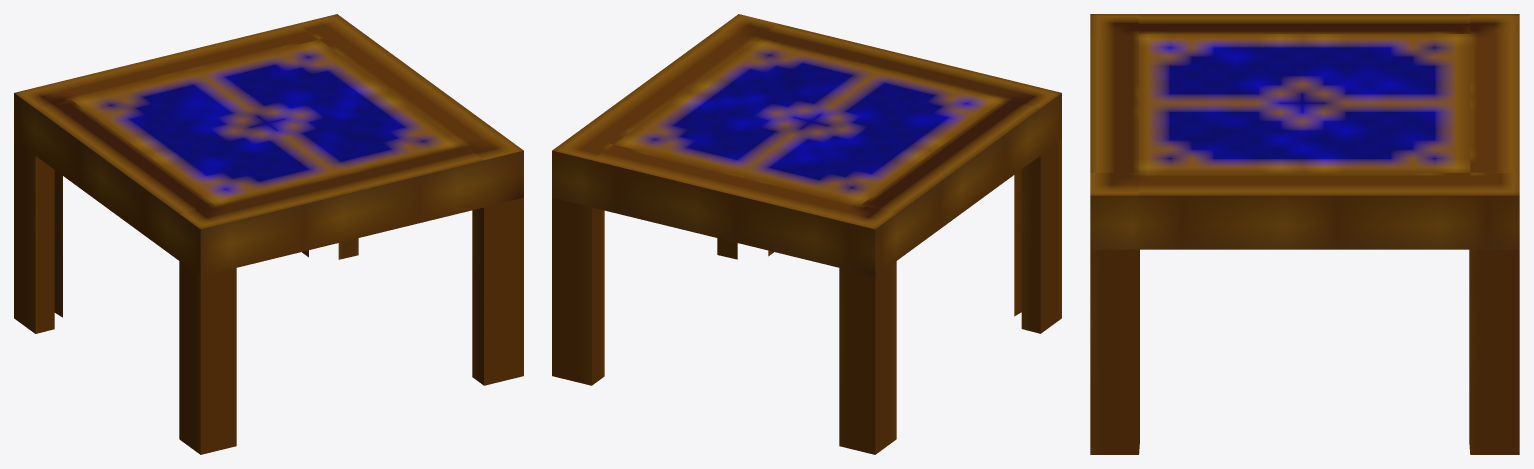
File: Table_633x5.obj
3 renders of one model, left to right at view 1: azimuth 30°, elevation 25°; view 2: azimuth 150°, elevation 25°; view 3: azimuth 270°, elevation 25°, orthographic. The views are drawn at different scales.
Visible parts, largest first — view 1: Table_633x5; view 2: Table_633x5; view 3: Table_633x5.
Boxes of the visible parts, x1,y1,x2,y2 form: Table_633x5: (14,14,523,454); Table_633x5: (552,14,1061,454); Table_633x5: (1090,14,1519,454).
Size of the model in its own units: 3 by 2 by 3.
